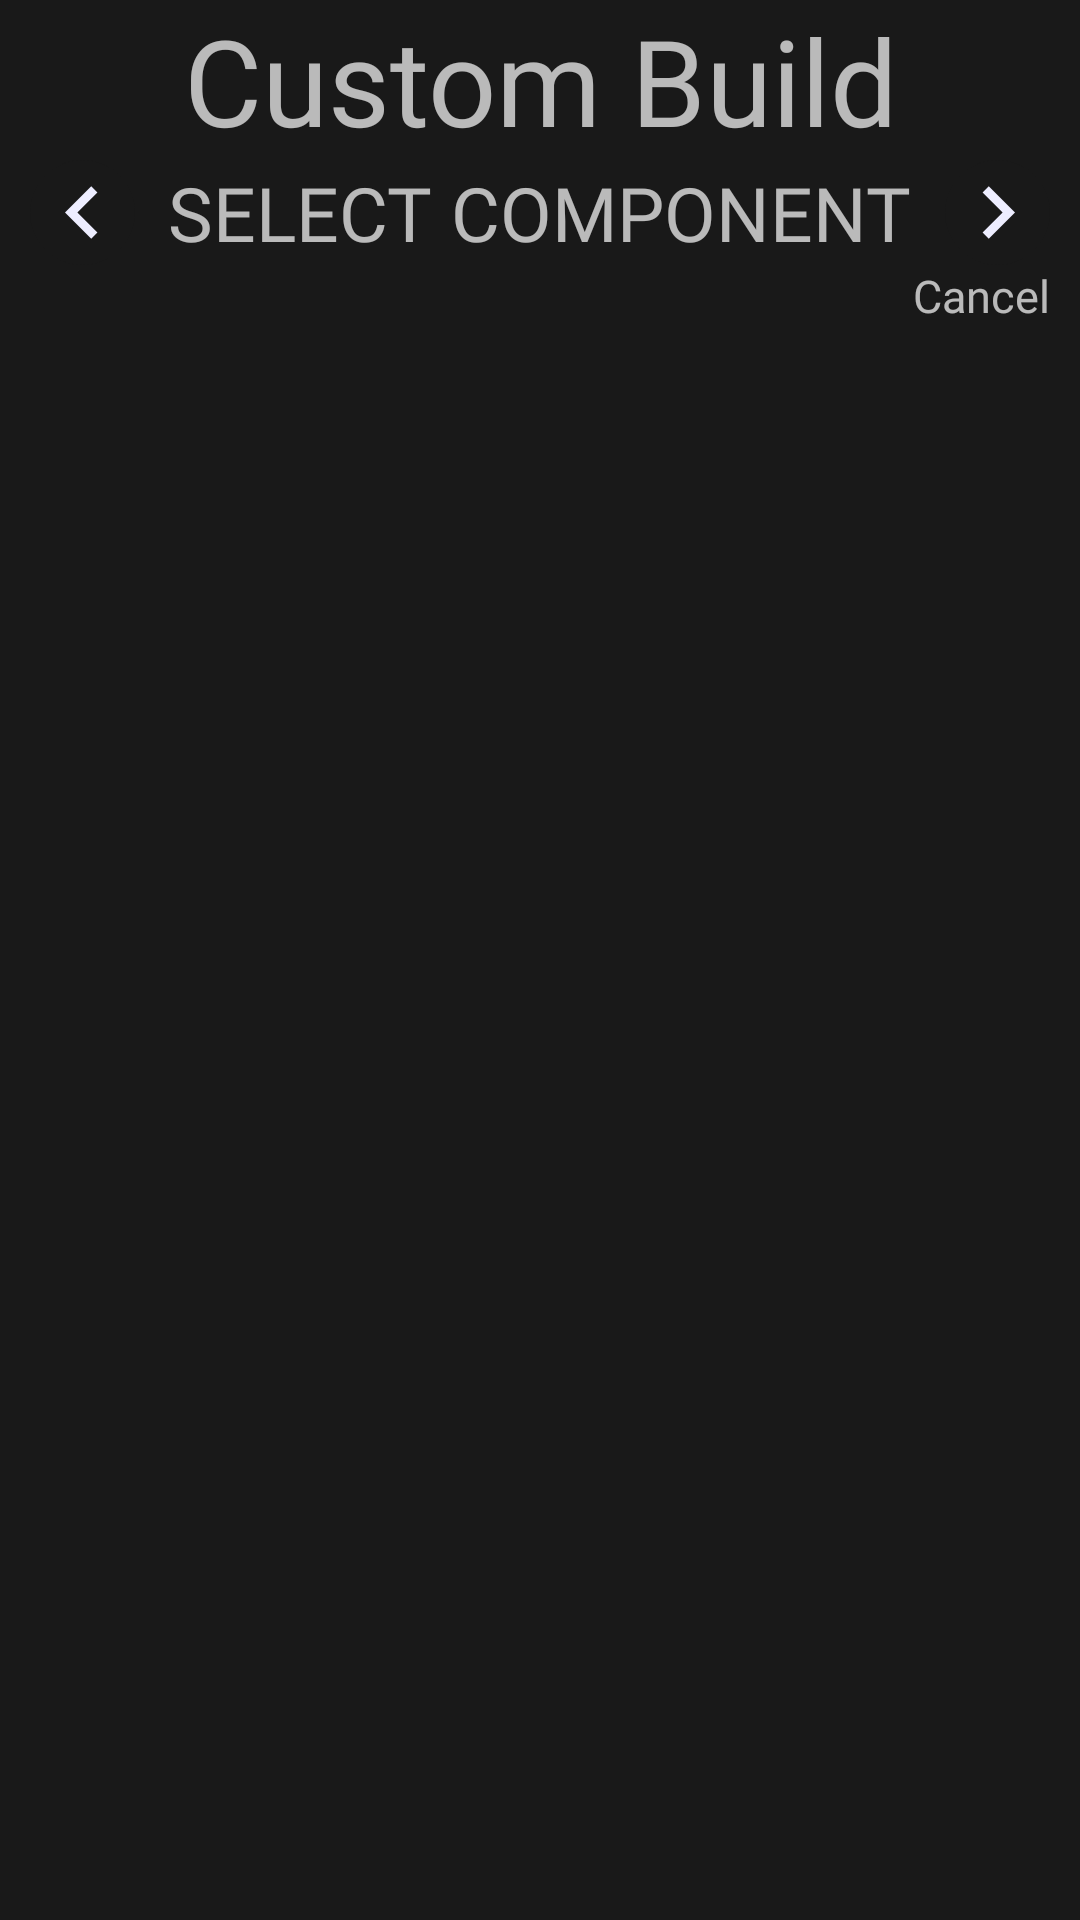

Icons on this 1080×1920 Android screen, each with its box as rect(x1, y1, x2, y2):
back: rect(65, 186, 98, 239)
navigate next: rect(982, 186, 1015, 239)
